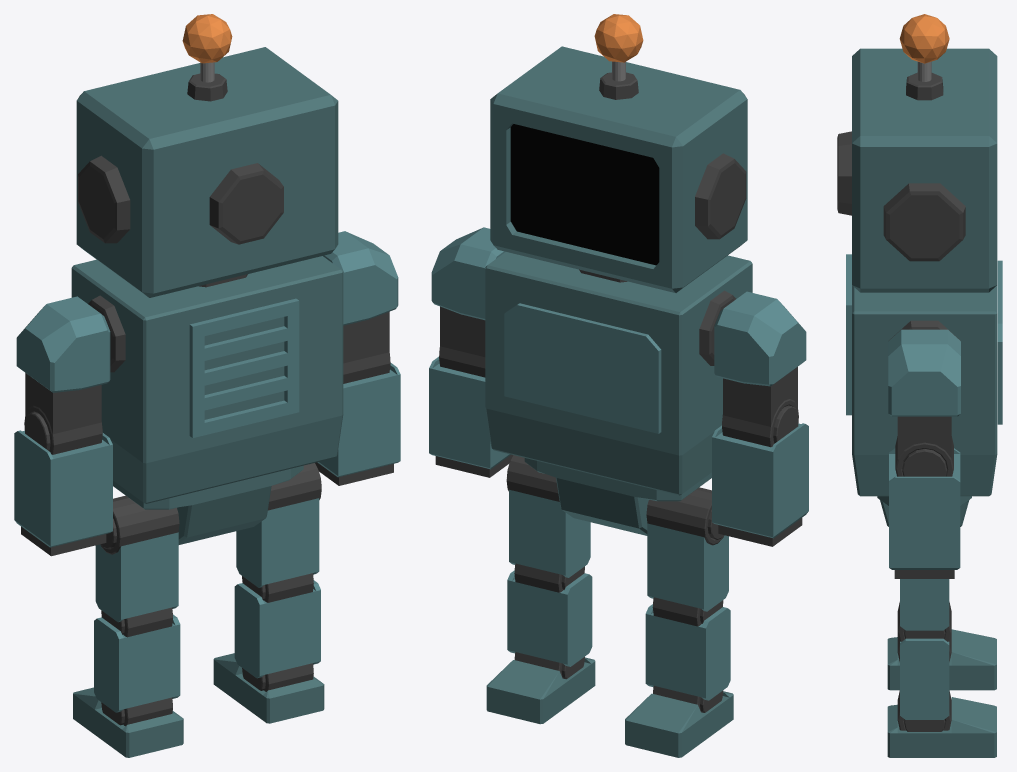
Rendered from GatherBot.fbx.
3 renders of one model, left to right at view 1: azimuth 30°, elevation 25°; view 2: azimuth 150°, elevation 25°; view 3: azimuth 270°, elevation 25°, orthographic.
Parts seen in each view (by area): view 1: M.Head, M.Body, M.L.Lower Arm, M.L.Upper Arm, M.L.Upper Leg, M.L.Lower Leg, M.R.Lower leg, M.R.Lower Arm, M.R.Upper Leg, M.R.Upper Arm, M.R.Foot, M.L.Foot; view 2: M.Head, M.Body, M.L.Lower Arm, M.L.Upper Arm, M.L.Upper Leg, M.L.Lower Leg, M.R.Lower leg, M.R.Lower Arm, M.R.Upper Leg, M.R.Upper Arm, M.R.Foot, M.L.Foot; view 3: M.Head, M.Body, M.R.Lower Arm, M.R.Upper Arm, M.R.Foot, M.R.Lower leg, M.L.Foot, M.R.Upper Leg.
Part boxes in pixels (x1,y1,x2,y2): M.Head: [76, 14, 338, 297]; M.Body: [71, 256, 343, 544]; M.L.Lower Arm: [14, 405, 112, 556]; M.L.Upper Arm: [16, 296, 110, 434]; M.L.Upper Leg: [95, 495, 179, 622]; M.L.Lower Leg: [94, 607, 180, 712]; M.R.Lower leg: [234, 573, 320, 678]; M.R.Lower Arm: [315, 352, 400, 485]; M.R.Upper Leg: [236, 463, 321, 587]; M.R.Upper Arm: [323, 231, 398, 363]; M.R.Foot: [213, 653, 324, 723]; M.L.Foot: [73, 687, 183, 757]; M.Head: [490, 14, 747, 292]; M.Body: [485, 252, 752, 535]; M.L.Lower Arm: [712, 399, 808, 546]; M.L.Upper Arm: [714, 291, 806, 426]; M.L.Upper Leg: [646, 487, 728, 611]; M.L.Lower Leg: [645, 597, 730, 700]; M.R.Lower leg: [507, 563, 592, 666]; M.R.Lower Arm: [429, 346, 513, 477]; M.R.Upper Leg: [506, 455, 590, 577]; M.R.Upper Arm: [431, 227, 505, 357]; M.R.Foot: [486, 652, 595, 724]; M.L.Foot: [625, 686, 733, 757]; M.Head: [837, 14, 997, 292]; M.Body: [846, 254, 1002, 526]; M.R.Lower Arm: [889, 436, 960, 578]; M.R.Upper Arm: [888, 329, 960, 458]; M.R.Foot: [887, 690, 996, 757]; M.R.Lower leg: [897, 602, 951, 719]; M.L.Foot: [887, 629, 996, 690]; M.R.Upper Leg: [900, 579, 949, 630].
Bounding box in the file's own units: 120 × 49.78 × 231.
